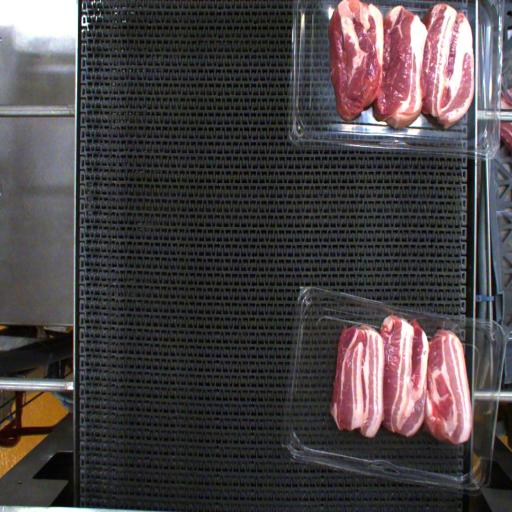packaging-error: (434, 319, 459, 336)
